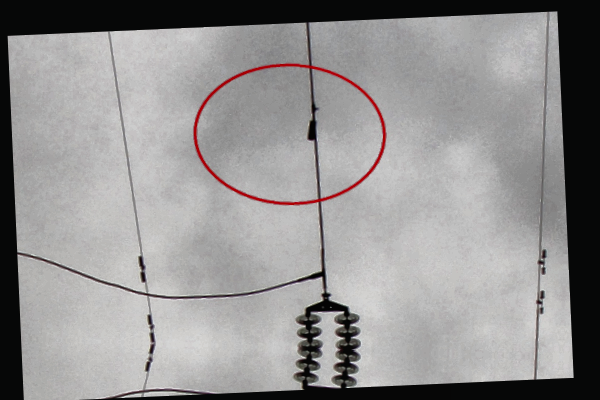damper: (145, 312, 158, 343), (535, 247, 548, 277), (534, 289, 547, 317), (136, 253, 147, 284), (143, 352, 157, 373)
damper_defect: (302, 99, 321, 142)
